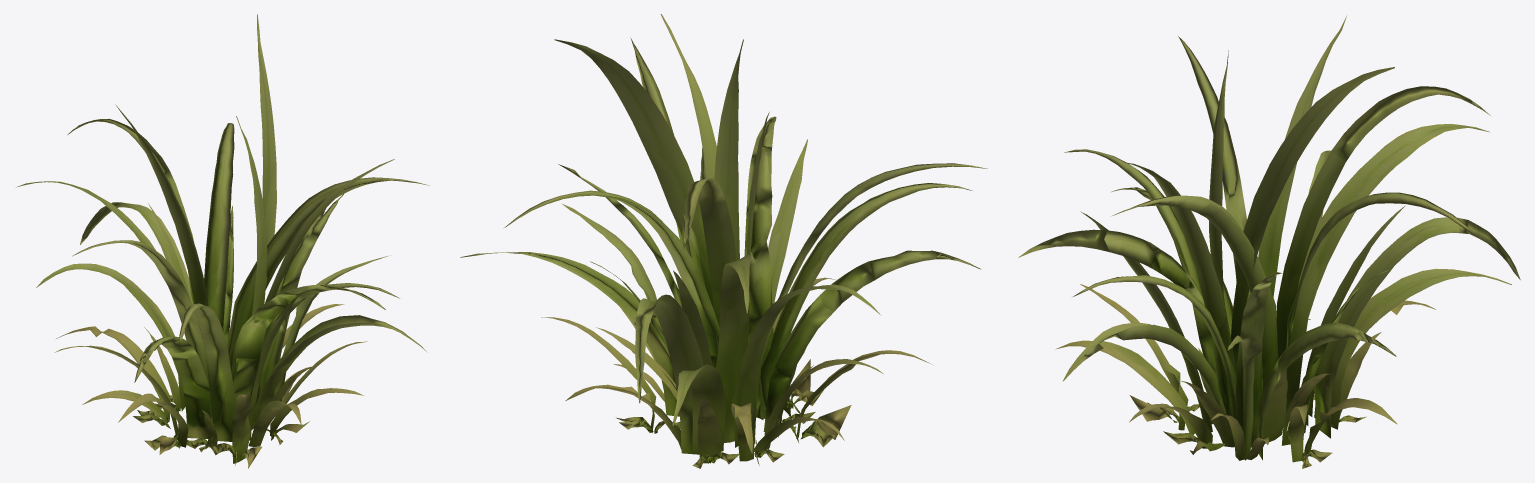
The model's file is 1792577782319-tufo_de_grama_alta.glb.
The picture shows the model from 3 angles, left to right: view 1: azimuth 30°, elevation 25°; view 2: azimuth 150°, elevation 25°; view 3: azimuth 270°, elevation 25°; orthographic projection. The views are drawn at different scales.
Parts seen in each view (by area): view 1: tripo_node_26490add-0f79-4647-80d0-a8c7ef54b8c2; view 2: tripo_node_26490add-0f79-4647-80d0-a8c7ef54b8c2; view 3: tripo_node_26490add-0f79-4647-80d0-a8c7ef54b8c2.
Part boxes in pixels (x1,y1,x2,y2): tripo_node_26490add-0f79-4647-80d0-a8c7ef54b8c2: [16, 14, 429, 468]; tripo_node_26490add-0f79-4647-80d0-a8c7ef54b8c2: [460, 14, 987, 468]; tripo_node_26490add-0f79-4647-80d0-a8c7ef54b8c2: [1018, 16, 1520, 468].
Size of the model in its own units: 0.9785 by 0.9395 by 0.998.
1 material, 1 textured.
